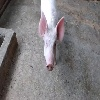heo: (37, 8, 66, 71)
